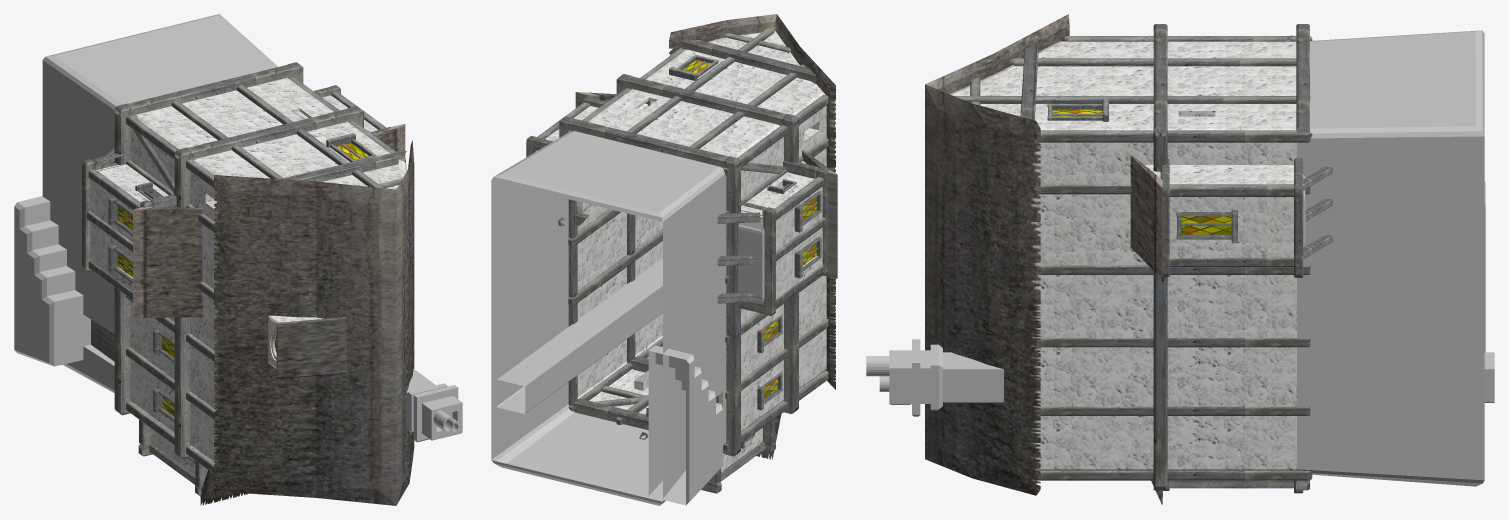
The model's file is HausBurk10K_wtf.obj.
3 renders of one model, left to right at view 1: azimuth 30°, elevation 25°; view 2: azimuth 150°, elevation 25°; view 3: azimuth 270°, elevation 25°, orthographic. The views are drawn at different scales.
Visible parts, largest first — view 1: group8, group4, group5, group3, group6, group7, group9; view 2: group4, group5, group3, group8, group6; view 3: group4, group3, group8, group5, group6.
Part boxes in pixels (x1=…): group8: x1=133, y1=124, x2=414, y2=505; group4: x1=14, y1=14, x2=462, y2=442; group5: x1=82, y1=62, x2=406, y2=495; group3: x1=90, y1=78, x2=407, y2=474; group6: x1=117, y1=143, x2=368, y2=416; group7: x1=91, y1=319, x2=114, y2=361; group9: x1=114, y1=407, x2=247, y2=505; group4: x1=491, y1=131, x2=764, y2=505; group5: x1=526, y1=26, x2=828, y2=493; group3: x1=545, y1=31, x2=826, y2=471; group8: x1=575, y1=14, x2=837, y2=459; group6: x1=683, y1=60, x2=816, y2=398; group4: x1=866, y1=30, x2=1494, y2=486; group3: x1=950, y1=41, x2=1296, y2=470; group8: x1=925, y1=14, x2=1162, y2=504; group5: x1=954, y1=24, x2=1332, y2=493; group6: x1=1052, y1=109, x2=1231, y2=234.
Bounding box in the file's own units: 391 × 503 × 660.
